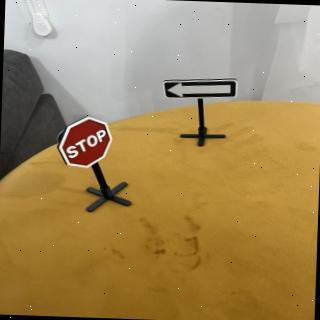sign_oneway_left: (160, 76, 240, 103)
sign_stop: (57, 115, 116, 171)
